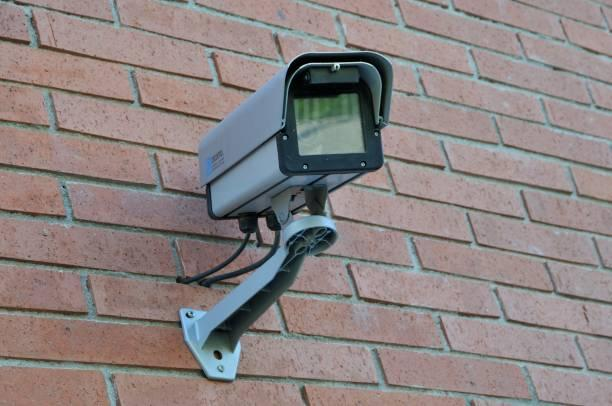camera: (168, 18, 443, 278)
